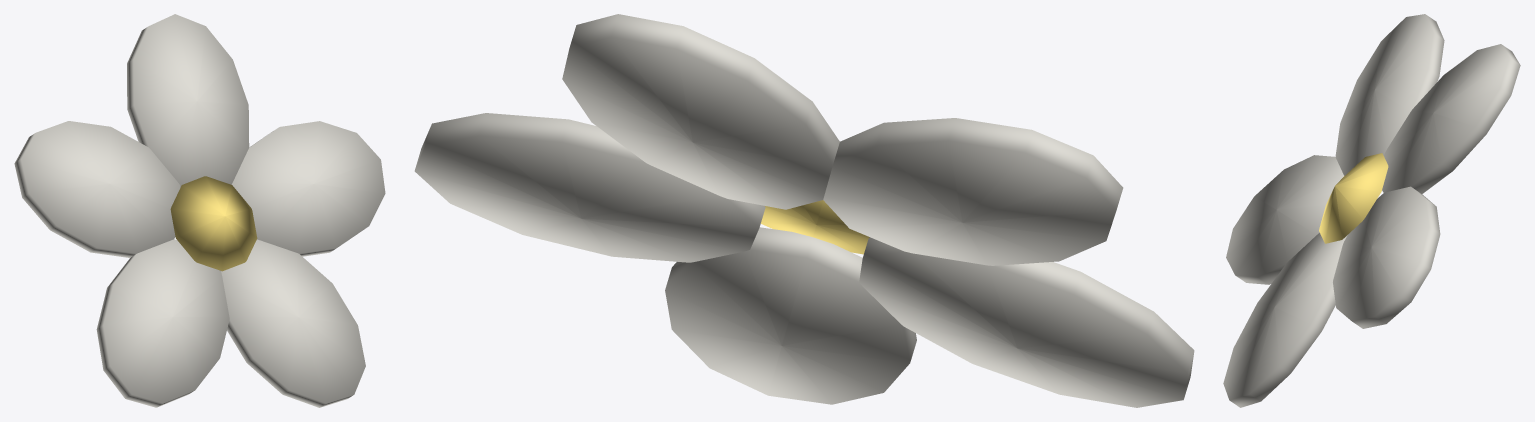
The model's file is turtle-acc-ear-flower-pagong.glb.
The picture shows the model from 3 angles, left to right: view 1: azimuth 30°, elevation 25°; view 2: azimuth 150°, elevation 25°; view 3: azimuth 270°, elevation 25°; orthographic projection. The views are drawn at different scales.
Parts seen in each view (by area): view 1: frangipani petal2, frangipani petal3, frangipani petal4, frangipani petal1, frangipani petal0, frangipani centre; view 2: frangipani petal1, frangipani petal2, frangipani petal3, frangipani petal0, frangipani petal4, frangipani centre; view 3: frangipani petal1, frangipani petal0, frangipani petal4, frangipani petal2, frangipani petal3, frangipani centre.
Part boxes in pixels (x1,y1,x2,y2): frangipani petal2: [14, 121, 180, 257]; frangipani petal3: [96, 239, 229, 407]; frangipani petal4: [220, 239, 365, 407]; frangipani petal1: [127, 14, 249, 186]; frangipani petal0: [231, 121, 385, 256]; frangipani centre: [170, 176, 257, 271]; frangipani petal1: [562, 14, 839, 209]; frangipani petal2: [823, 118, 1123, 265]; frangipani petal3: [859, 237, 1194, 407]; frangipani petal0: [414, 113, 765, 262]; frangipani petal4: [665, 227, 916, 404]; frangipani centre: [761, 200, 869, 254]; frangipani petal1: [1382, 44, 1520, 193]; frangipani petal0: [1333, 186, 1440, 328]; frangipani petal4: [1223, 233, 1347, 407]; frangipani petal2: [1335, 14, 1444, 175]; frangipani petal3: [1226, 155, 1343, 284]; frangipani centre: [1319, 153, 1388, 243].
Bounding box in the file's own units: 0.0137 × 0.011 × 0.0091.
